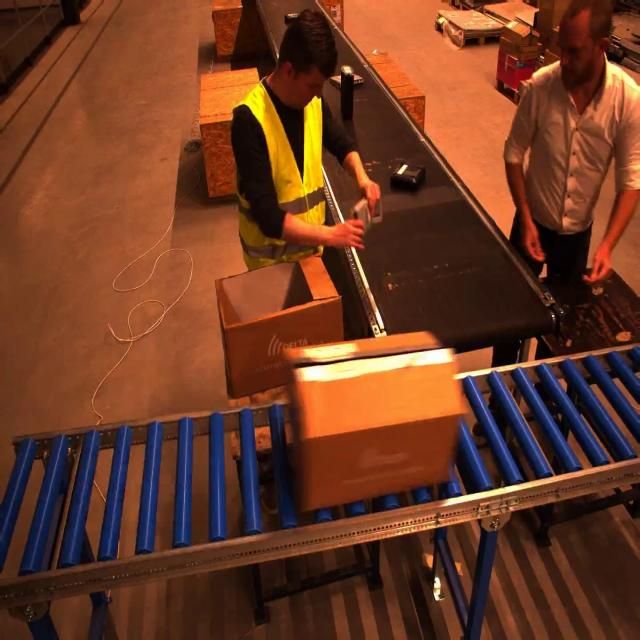box: (282, 328, 453, 489), (209, 261, 346, 384)
product: (349, 195, 384, 235), (392, 161, 426, 196), (329, 68, 366, 90), (341, 64, 352, 119), (285, 13, 315, 28)
